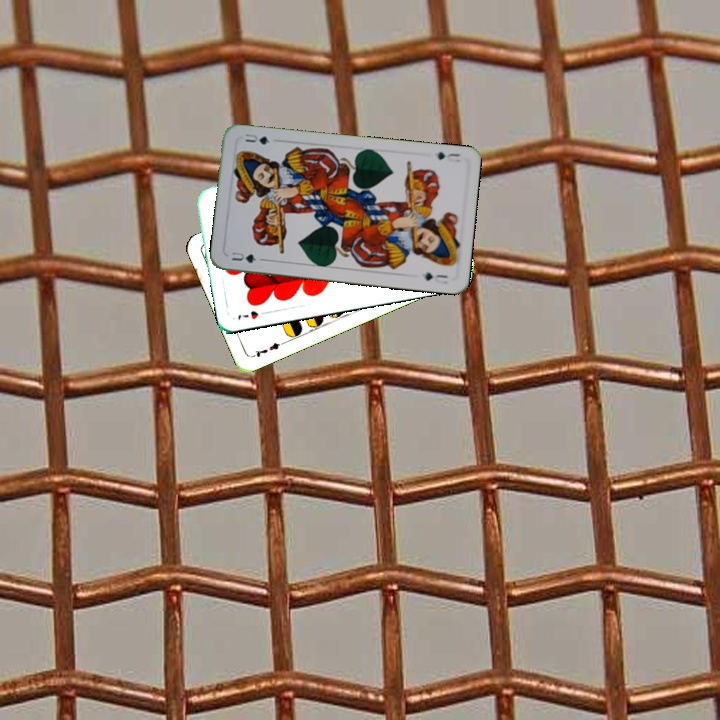E7: (248, 338, 287, 360)
GU: (228, 248, 259, 266), (433, 148, 463, 165)
H7: (234, 306, 272, 322)
